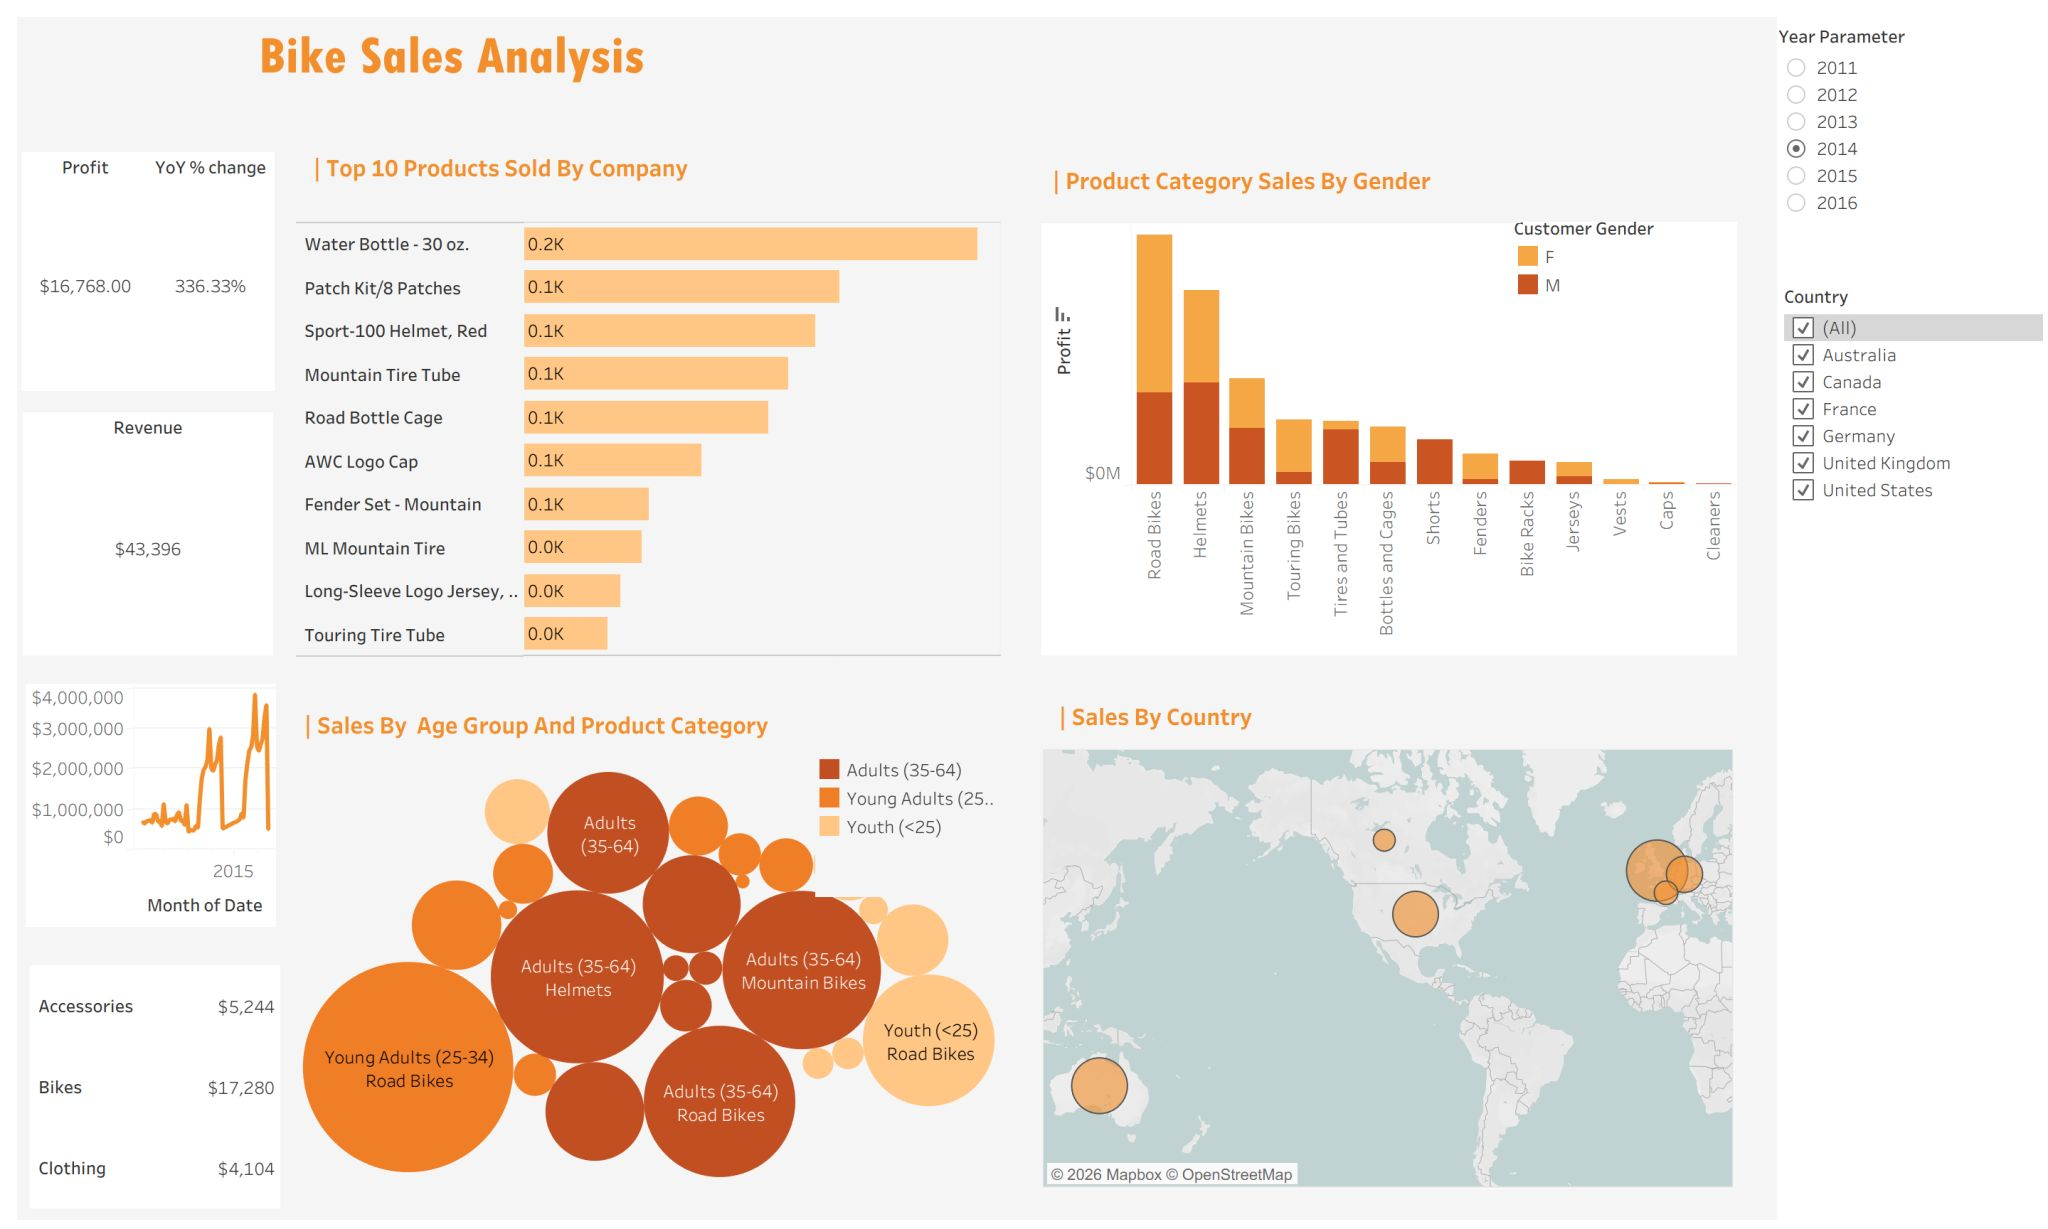

Layout of this report page (visuals, bound fields, positions):
{"tool":"tableau","page":{"name":"Sales Dashboard ","canvas":[1000,1000],"units":"permille","ordinal":0},"visuals":[{"type":"title","box":[9.8,16.8,834.8,76.8]},{"type":"parameter","param":"[Parameters].[Parameter 1]","box":[867.8,19.6,128.9,956.7]},{"type":"text","box":[142.7,100.6,229.5,69.8]},{"type":"text","box":[506.9,110.3,235.2,69.8]},{"type":"worksheet","title":"Profit Card","mark":"Automatic","cols":["Calculation_3008049373179905"],"box":[10.5,122.9,62.5,192.7]},{"type":"worksheet","title":"YoY % Change","mark":"Automatic","cols":["Calculation_3008049389092871"],"box":[71.4,122.9,62.5,192.7]},{"type":"legend","title":"Sub Category Bar Chart","param":"[federated.0hk475a169kmtc1edxamf1nojdjb].[none:Customer_Gender:nk]","box":[738.9,174.6,113.5,81]},{"type":"worksheet","title":"Top 10 Products","mark":"Bar","rows":["Product"],"box":[144.4,178.8,344.7,352]},{"type":"worksheet","title":"Sub Category Bar Chart","mark":"Automatic","rows":["Profit"],"cols":["Sub_Category"],"box":[508.5,178.8,339.8,350.6]},{"type":"filter","title":"Age Group Bubblechart","param":"[federated.0hk475a169kmtc1edxamf1nojdjb].[none:Country:nk]","box":[871.1,230.5,126.5,219.3]},{"type":"worksheet","title":"Revenue Card ","mark":"Automatic","cols":["Calculation_3008049392582665"],"box":[11.3,333.8,122.5,196.9]},{"type":"text","box":[507.7,543.3,138.7,69.8]},{"type":"text","box":[141.9,550.3,274.1,69.8]},{"type":"worksheet","title":"Revenue Line Chart","mark":"Automatic","rows":["Revenue"],"cols":["Date"],"box":[12.2,553.1,122.5,196.9]},{"type":"worksheet","title":"Map","mark":"Automatic","box":[509.3,606.1,337.4,354.8]},{"type":"legend","title":"Age Group Bubblechart","param":"[federated.0hk475a169kmtc1edxamf1nojdjb].[none:Age_Group:nk]","box":[398.2,610.3,91.7,114.5]},{"type":"worksheet","title":"Age Group Bubblechart","mark":"Circle","box":[144.4,624.3,344.7,336.6]},{"type":"worksheet","title":"Cost Cards","mark":"Automatic","rows":["Product_Category"],"box":[14.6,780.7,122.5,196.9]}]}

Visuals, with their boxes on the dashboard's canvas, which has no fixed pixel size, in thousandths of its width and height (x1, y1, x2, y2). These are canvas units, not pixel positions in the 2048x1229 screenshot, which may show the page scaled, cropped or inside an application window:
title: x1=10, y1=17, x2=845, y2=94
parameter: x1=868, y1=20, x2=997, y2=976
text: x1=143, y1=101, x2=372, y2=170
text: x1=507, y1=110, x2=742, y2=180
"Profit Card" worksheet: x1=10, y1=123, x2=73, y2=316
"YoY % Change" worksheet: x1=71, y1=123, x2=134, y2=316
"Sub Category Bar Chart" legend: x1=739, y1=175, x2=852, y2=256
"Top 10 Products" worksheet (Bar marks): x1=144, y1=179, x2=489, y2=531
"Sub Category Bar Chart" worksheet: x1=508, y1=179, x2=848, y2=529
"Age Group Bubblechart" filter: x1=871, y1=230, x2=998, y2=450
"Revenue Card " worksheet: x1=11, y1=334, x2=134, y2=531
text: x1=508, y1=543, x2=646, y2=613
text: x1=142, y1=550, x2=416, y2=620
"Revenue Line Chart" worksheet: x1=12, y1=553, x2=135, y2=750
"Map" worksheet: x1=509, y1=606, x2=847, y2=961
"Age Group Bubblechart" legend: x1=398, y1=610, x2=490, y2=725
"Age Group Bubblechart" worksheet (Circle marks): x1=144, y1=624, x2=489, y2=961
"Cost Cards" worksheet: x1=15, y1=781, x2=137, y2=978
